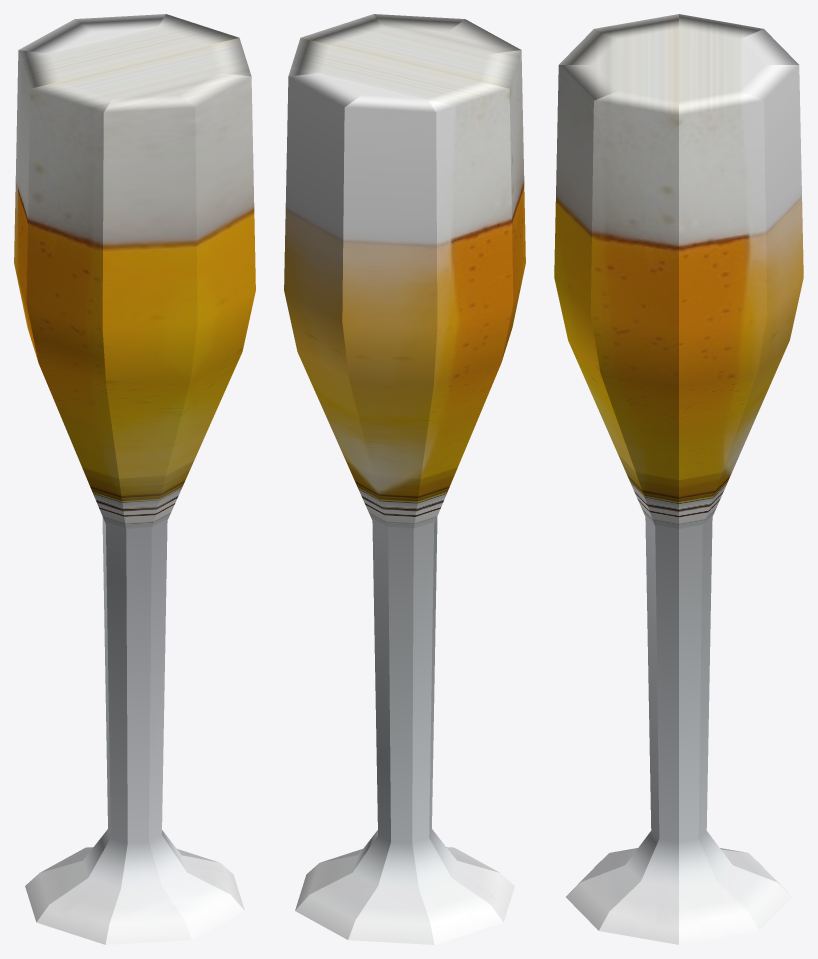
The model's file is beer8m.fbx.
3 renders of one model, left to right at view 1: azimuth 30°, elevation 25°; view 2: azimuth 150°, elevation 25°; view 3: azimuth 270°, elevation 25°, orthographic.
Visible parts, largest first — view 1: pCylinder3; view 2: pCylinder3; view 3: pCylinder3.
Boxes of the visible parts, x1,y1,x2,y2 form: pCylinder3: (14,14,255,944); pCylinder3: (284,14,525,944); pCylinder3: (554,14,803,944).
Size of the model in its own units: 1.96 by 7.21 by 1.96.
1 material, 1 textured.
